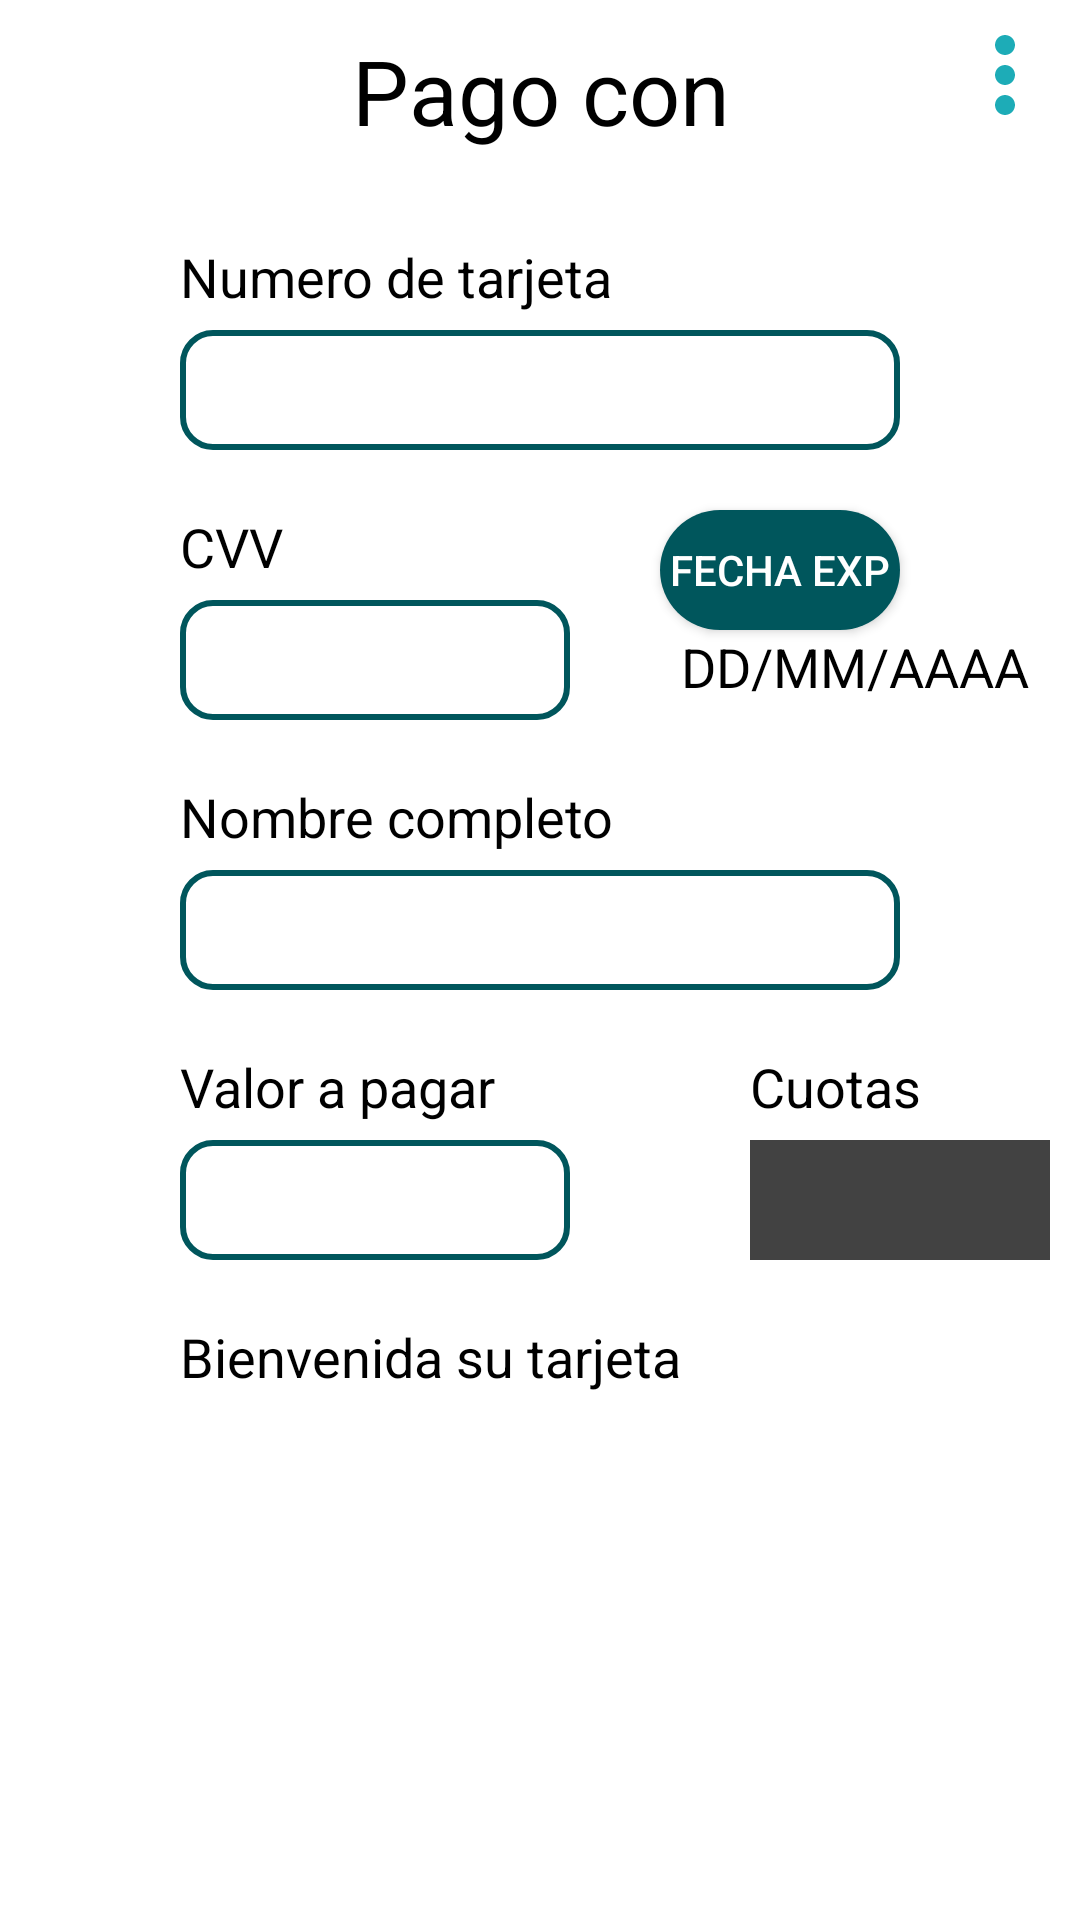

Screen size 1080×1920. Icon name, then its center in pixels as (x=x, y=y):
points: (x=1005, y=75)
